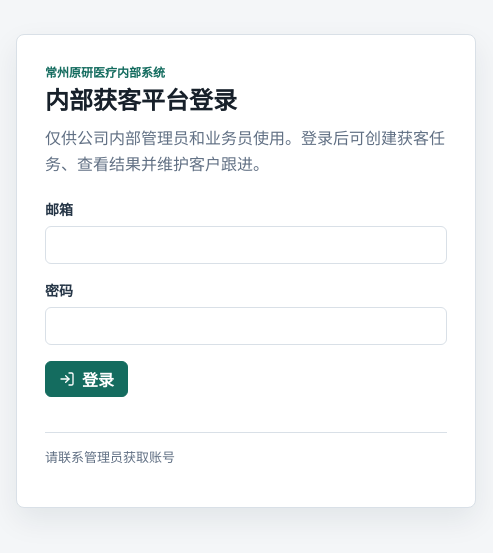
Test: LoginPage › 网络异常后显示提示并恢复可提交状态
Click the button "登录": [86, 379] box left=45, top=361, right=128, bottom=397
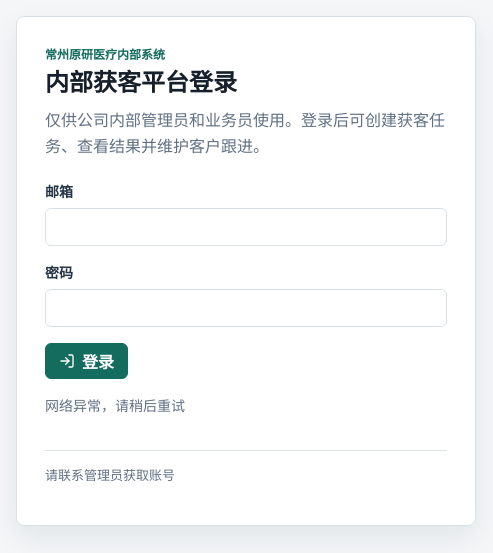
Check: the button "登录" is enabled, box left=45, top=343, right=128, bottom=379
Check: the message reads "网络异常，请稍后重试", box left=45, top=398, right=185, bottom=414
